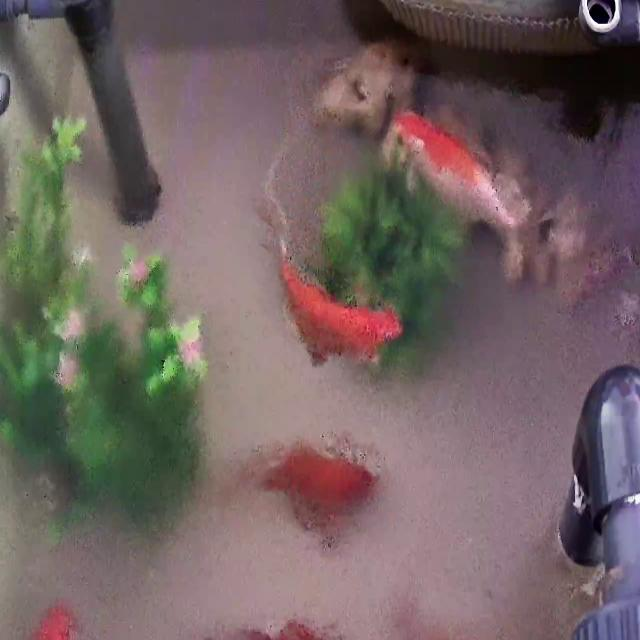fish: (394, 112, 521, 240), (279, 250, 390, 368), (247, 443, 375, 531), (224, 618, 341, 640)
